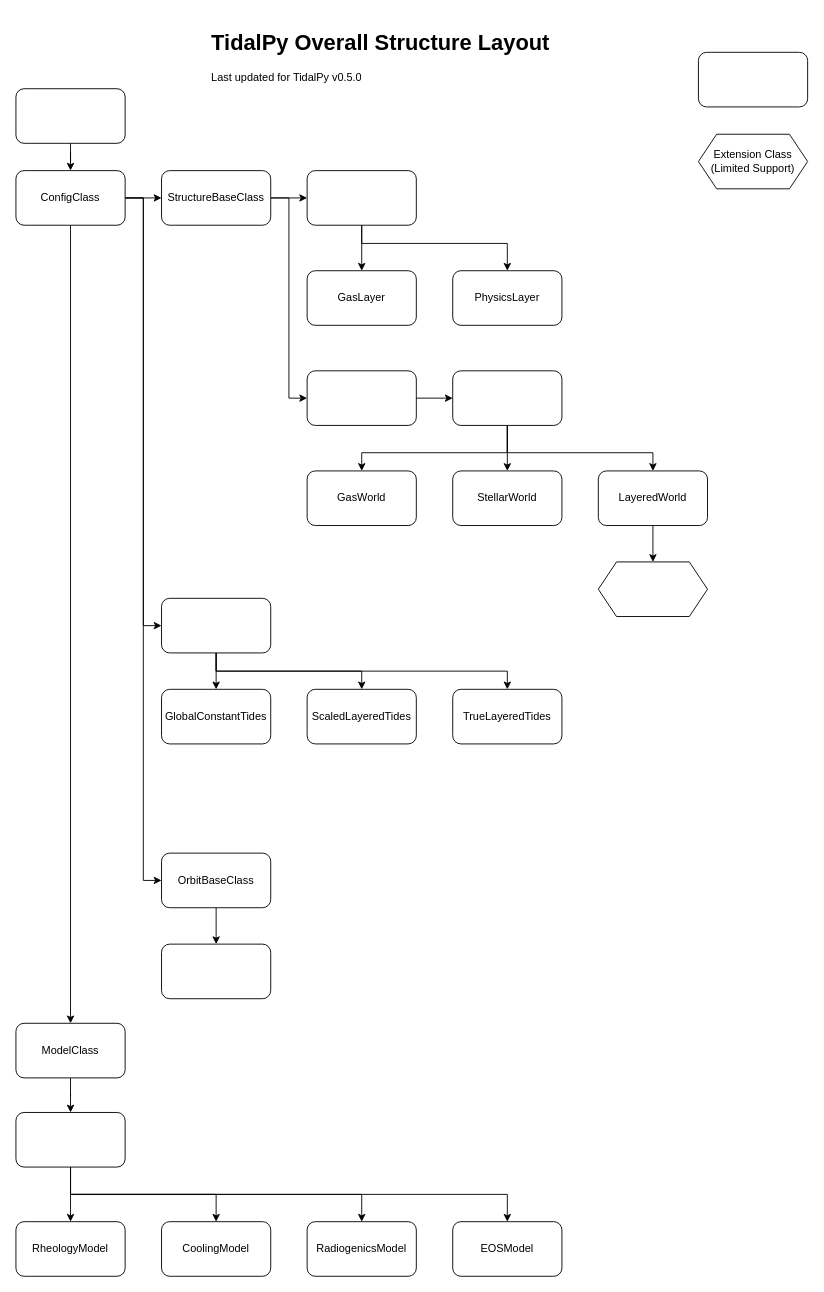
Image size: 824x1292. Some labels were removed from this diagram. Each missing label, with the centre of its shape:
"BurnmanWorld" belongs at (x=652, y=589).
"LayerBaseClass" belongs at (x=361, y=197).
"LayerModel" belongs at (x=70, y=1139).
"PhysicsOrbit" belongs at (x=216, y=971).
"TidalPy Class" belongs at (x=753, y=79).
"TidalPyBaseClass" belongs at (x=70, y=115).
"TidalWorld" belongs at (x=507, y=397).
"TidesBaseClass" belongs at (x=216, y=625).
"WorldBaseClass" belongs at (x=361, y=397).
